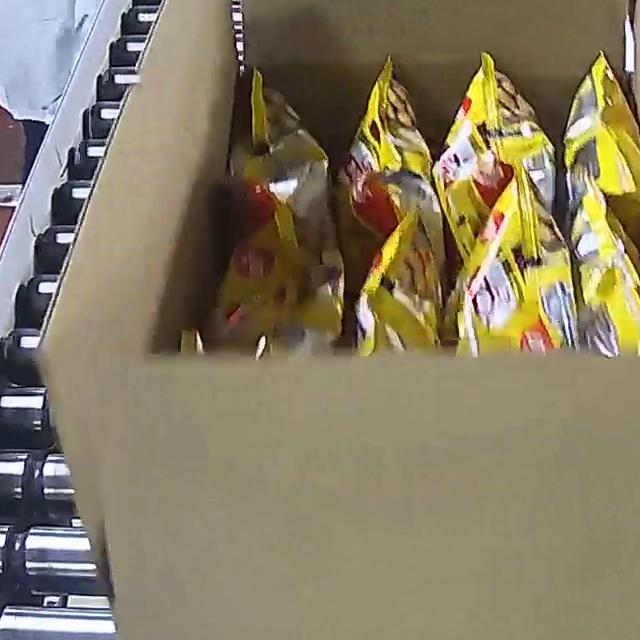salted: (200, 5, 640, 352)
